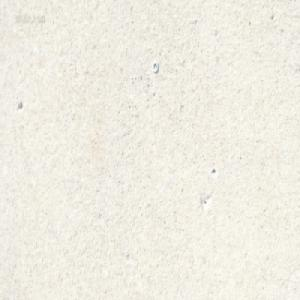Washer: (151, 60, 158, 73)
